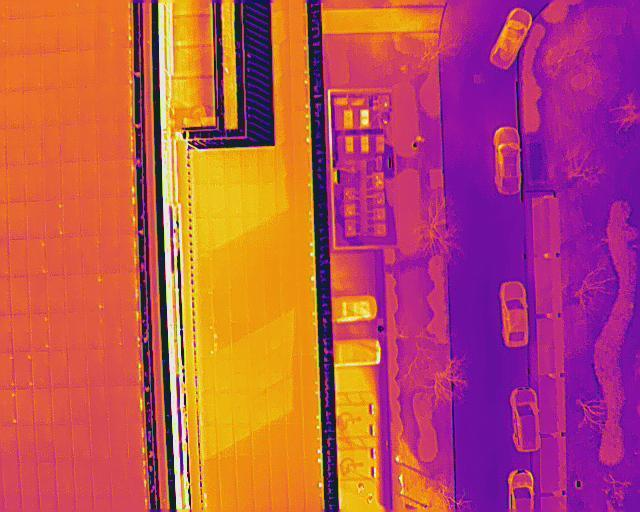Cell-Multi: (30, 313, 50, 352), (14, 351, 33, 391), (113, 11, 132, 50), (115, 160, 134, 198), (28, 240, 47, 277), (85, 274, 104, 311), (127, 460, 146, 497), (113, 48, 132, 85), (116, 197, 135, 232), (46, 201, 63, 238), (122, 311, 139, 346)
No-Anomaly: (41, 53, 63, 92), (5, 128, 26, 168), (95, 11, 117, 49), (78, 84, 98, 125), (7, 201, 27, 241), (90, 423, 110, 463), (42, 123, 61, 165), (86, 348, 107, 386), (61, 125, 81, 164), (79, 11, 99, 50), (59, 14, 79, 53), (23, 16, 43, 55), (5, 18, 25, 57), (109, 424, 129, 463), (98, 160, 119, 197), (40, 16, 61, 53), (63, 198, 82, 238), (68, 312, 88, 350), (105, 348, 125, 386), (89, 385, 109, 423), (73, 424, 92, 464), (59, 50, 78, 90), (19, 462, 40, 498), (95, 85, 114, 124), (25, 127, 44, 166), (101, 234, 120, 273), (103, 272, 122, 311), (7, 165, 27, 202), (38, 461, 58, 498), (1, 463, 22, 498), (7, 91, 26, 129), (25, 165, 44, 203), (83, 197, 102, 235), (64, 236, 83, 274), (4, 54, 23, 92), (96, 124, 116, 160), (83, 235, 101, 275), (10, 240, 30, 276), (10, 279, 30, 315), (70, 387, 90, 423), (18, 424, 36, 464), (77, 50, 97, 86), (30, 277, 49, 314), (12, 315, 31, 352), (60, 86, 78, 125), (62, 163, 80, 202), (28, 200, 46, 239), (92, 461, 112, 496), (110, 463, 130, 498), (66, 275, 84, 313), (103, 312, 122, 348), (54, 424, 72, 462), (96, 49, 114, 87), (23, 53, 41, 91), (43, 163, 61, 200), (47, 238, 65, 275), (49, 314, 67, 351), (33, 388, 51, 425), (36, 424, 54, 461), (48, 277, 67, 312), (79, 123, 96, 162), (81, 161, 99, 197), (53, 387, 71, 423), (16, 389, 34, 425), (42, 89, 60, 124), (107, 386, 125, 421), (101, 196, 118, 233), (70, 350, 87, 387), (51, 350, 68, 387), (33, 351, 50, 388), (56, 463, 75, 496), (75, 463, 94, 496), (25, 90, 42, 126), (86, 313, 103, 348), (123, 349, 139, 385), (128, 424, 144, 460)
Unclassified: (113, 83, 133, 121), (118, 234, 137, 274), (125, 385, 144, 424), (120, 273, 138, 310), (116, 124, 134, 160)
